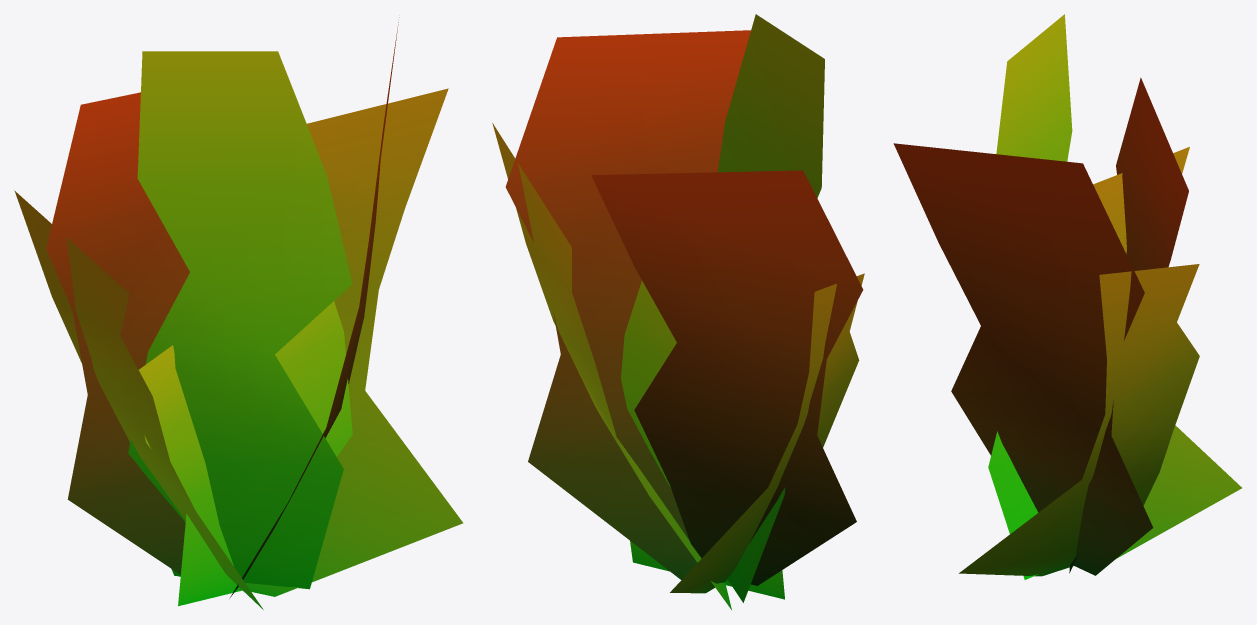
Rendered from Seaweed_LOD0_Var8_sdpjN.fbx.
3 views of the same model, side by side, from view 1: azimuth 30°, elevation 25°; view 2: azimuth 150°, elevation 25°; view 3: azimuth 270°, elevation 25° (orthographic). The views are drawn at different scales.
Visible parts, largest first — view 1: _3576_Var8_LOD0; view 2: _3576_Var8_LOD0; view 3: _3576_Var8_LOD0.
Part boxes in pixels (x1,y1,x2,y2): _3576_Var8_LOD0: (14,17,463,609); _3576_Var8_LOD0: (492,14,864,609); _3576_Var8_LOD0: (893,14,1241,579).
Size of the model in its own units: 12.85 by 17.68 by 10.95.
